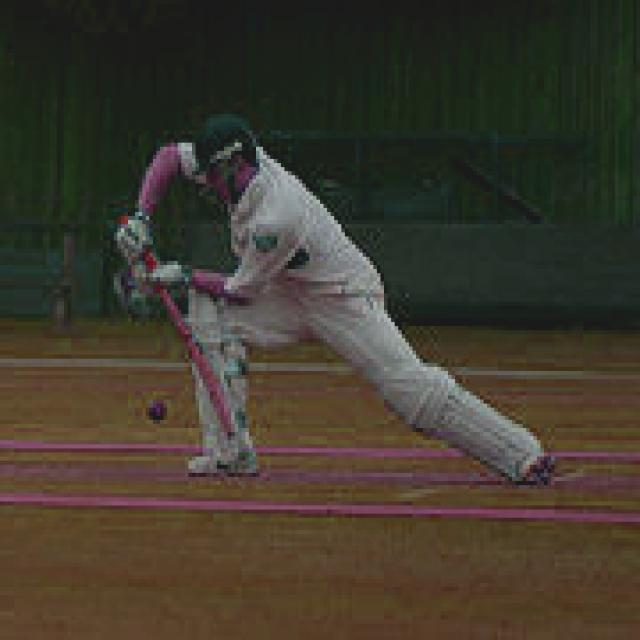toe: (202, 377, 253, 438)
